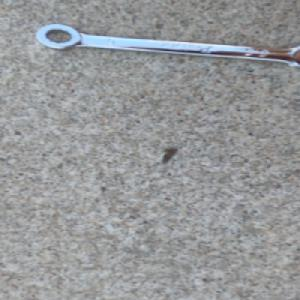Wrench: (34, 22, 300, 70)
